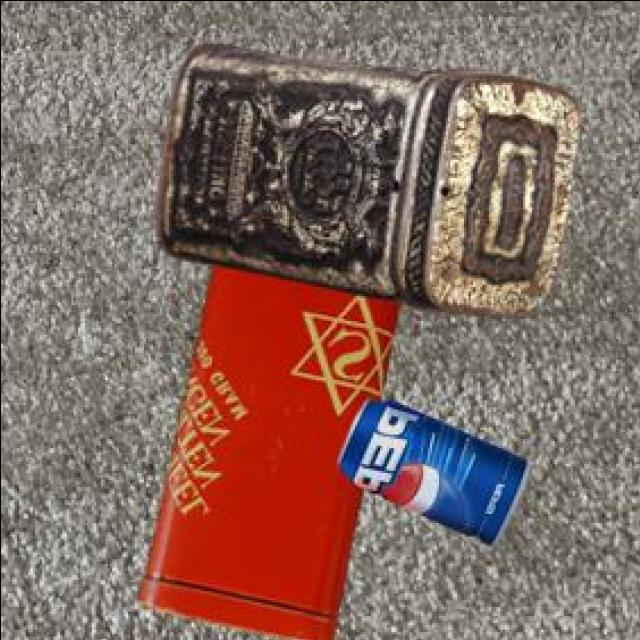logam: (158, 40, 582, 312), (142, 260, 401, 640), (342, 396, 532, 539)
